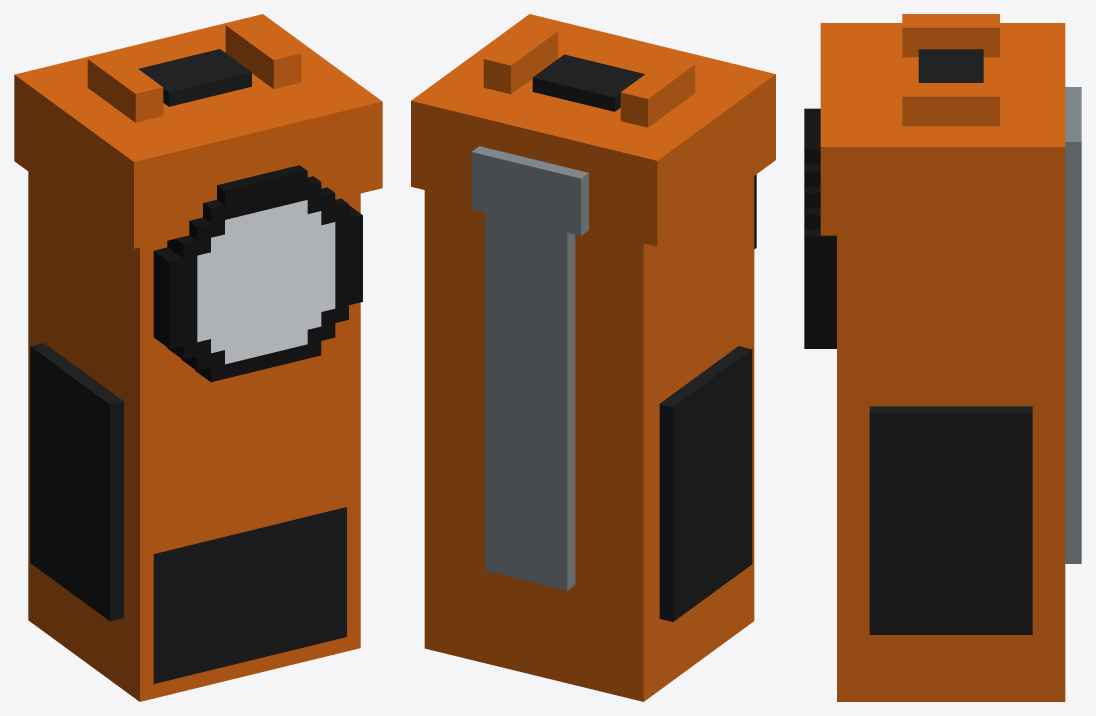
File: heavy_flashlight.glb
3 renders of one model, left to right at view 1: azimuth 30°, elevation 25°; view 2: azimuth 150°, elevation 25°; view 3: azimuth 270°, elevation 25°, orthographic. The views are drawn at different scales.
Visible parts, largest first — view 1: heavy_flashlight:compound; view 2: heavy_flashlight:compound; view 3: heavy_flashlight:compound.
Part boxes in pixels (x1,y1,x2,y2): heavy_flashlight:compound: (14, 14, 382, 701); heavy_flashlight:compound: (411, 14, 775, 701); heavy_flashlight:compound: (804, 14, 1081, 701).
Size of the model in its own units: 0.072 by 0.16 by 0.068.
